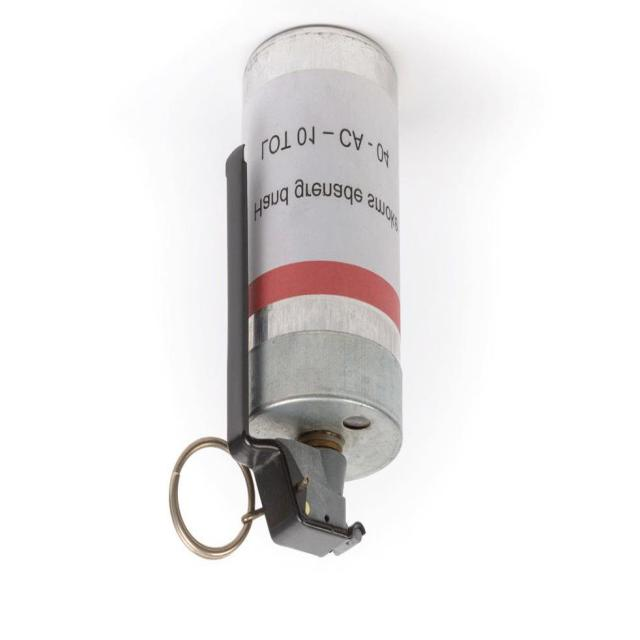grenade: (169, 25, 404, 563)
